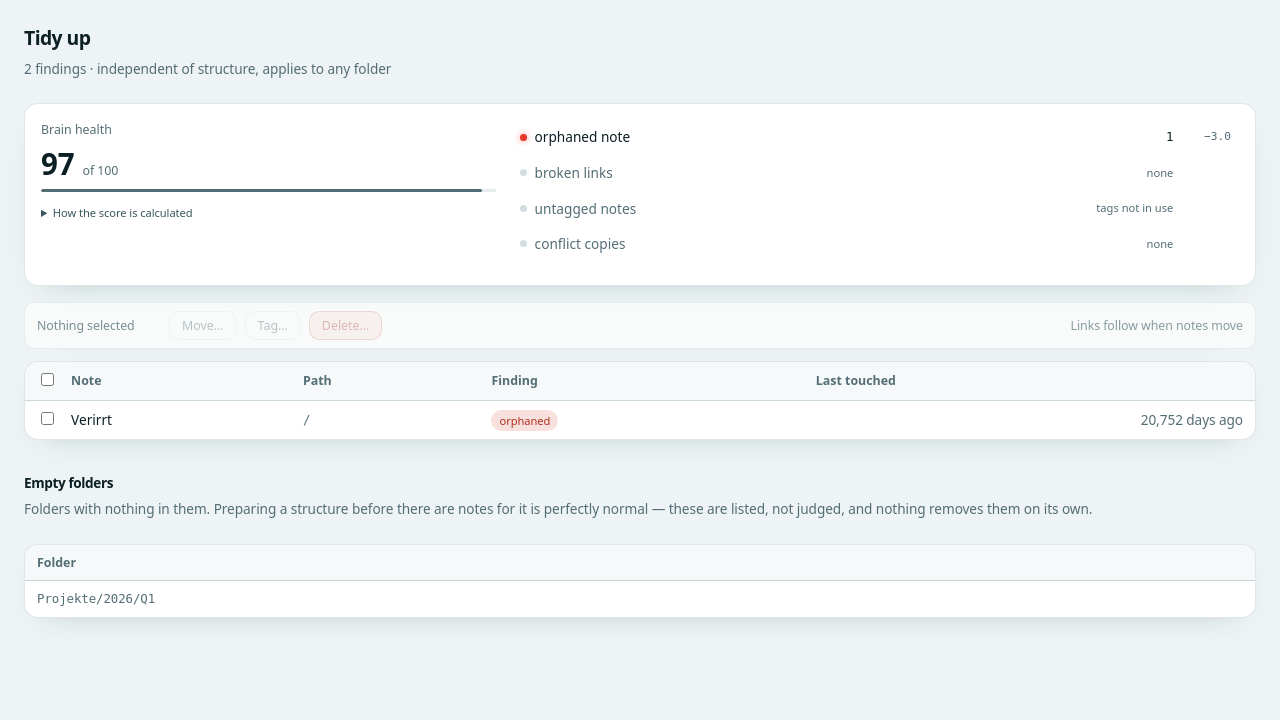
Test case: empty folders › stays out of sight while another finding is being worked through
The width and height of the screenshot is (1280, 720).
Click the button with aria-label "Show the 1 orphaned" at (582, 137), box [512,120,1239,154]
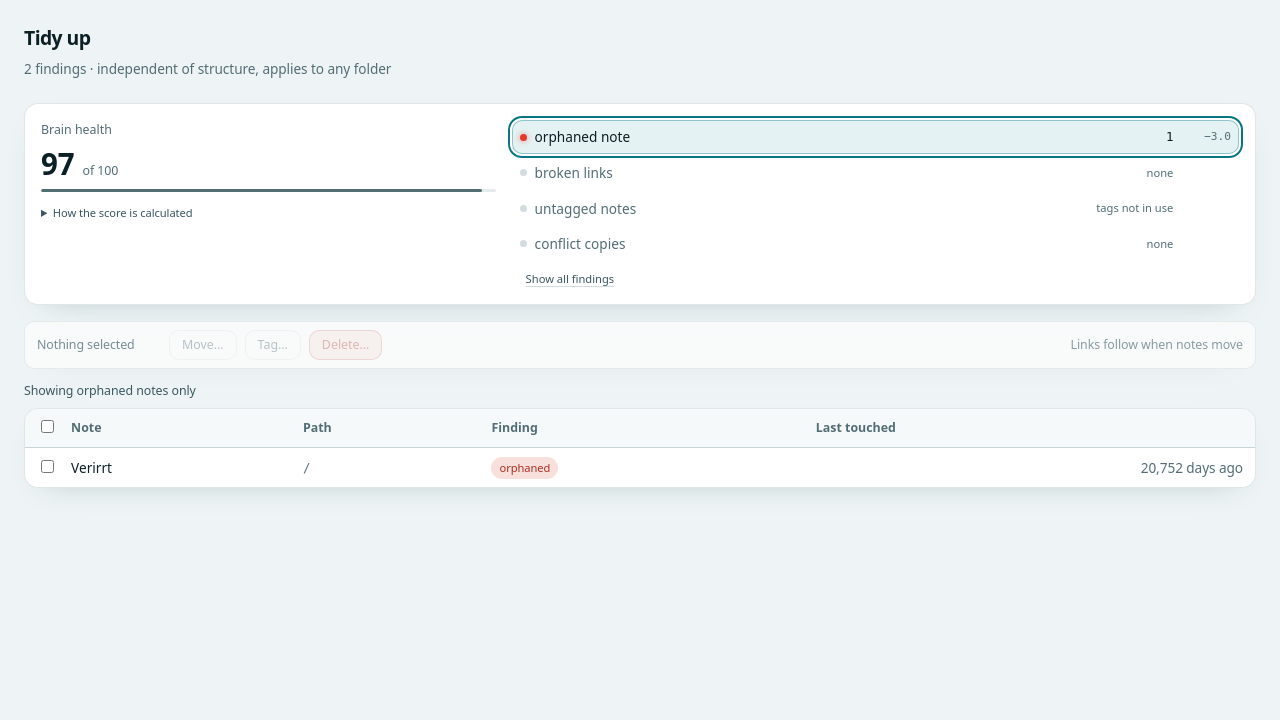
Expected: the heading "Empty folders" is gone
